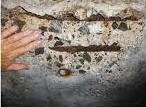Exposed reinforcement: (23, 11, 140, 22), (48, 42, 122, 53)
Spalling: (1, 6, 146, 83)
